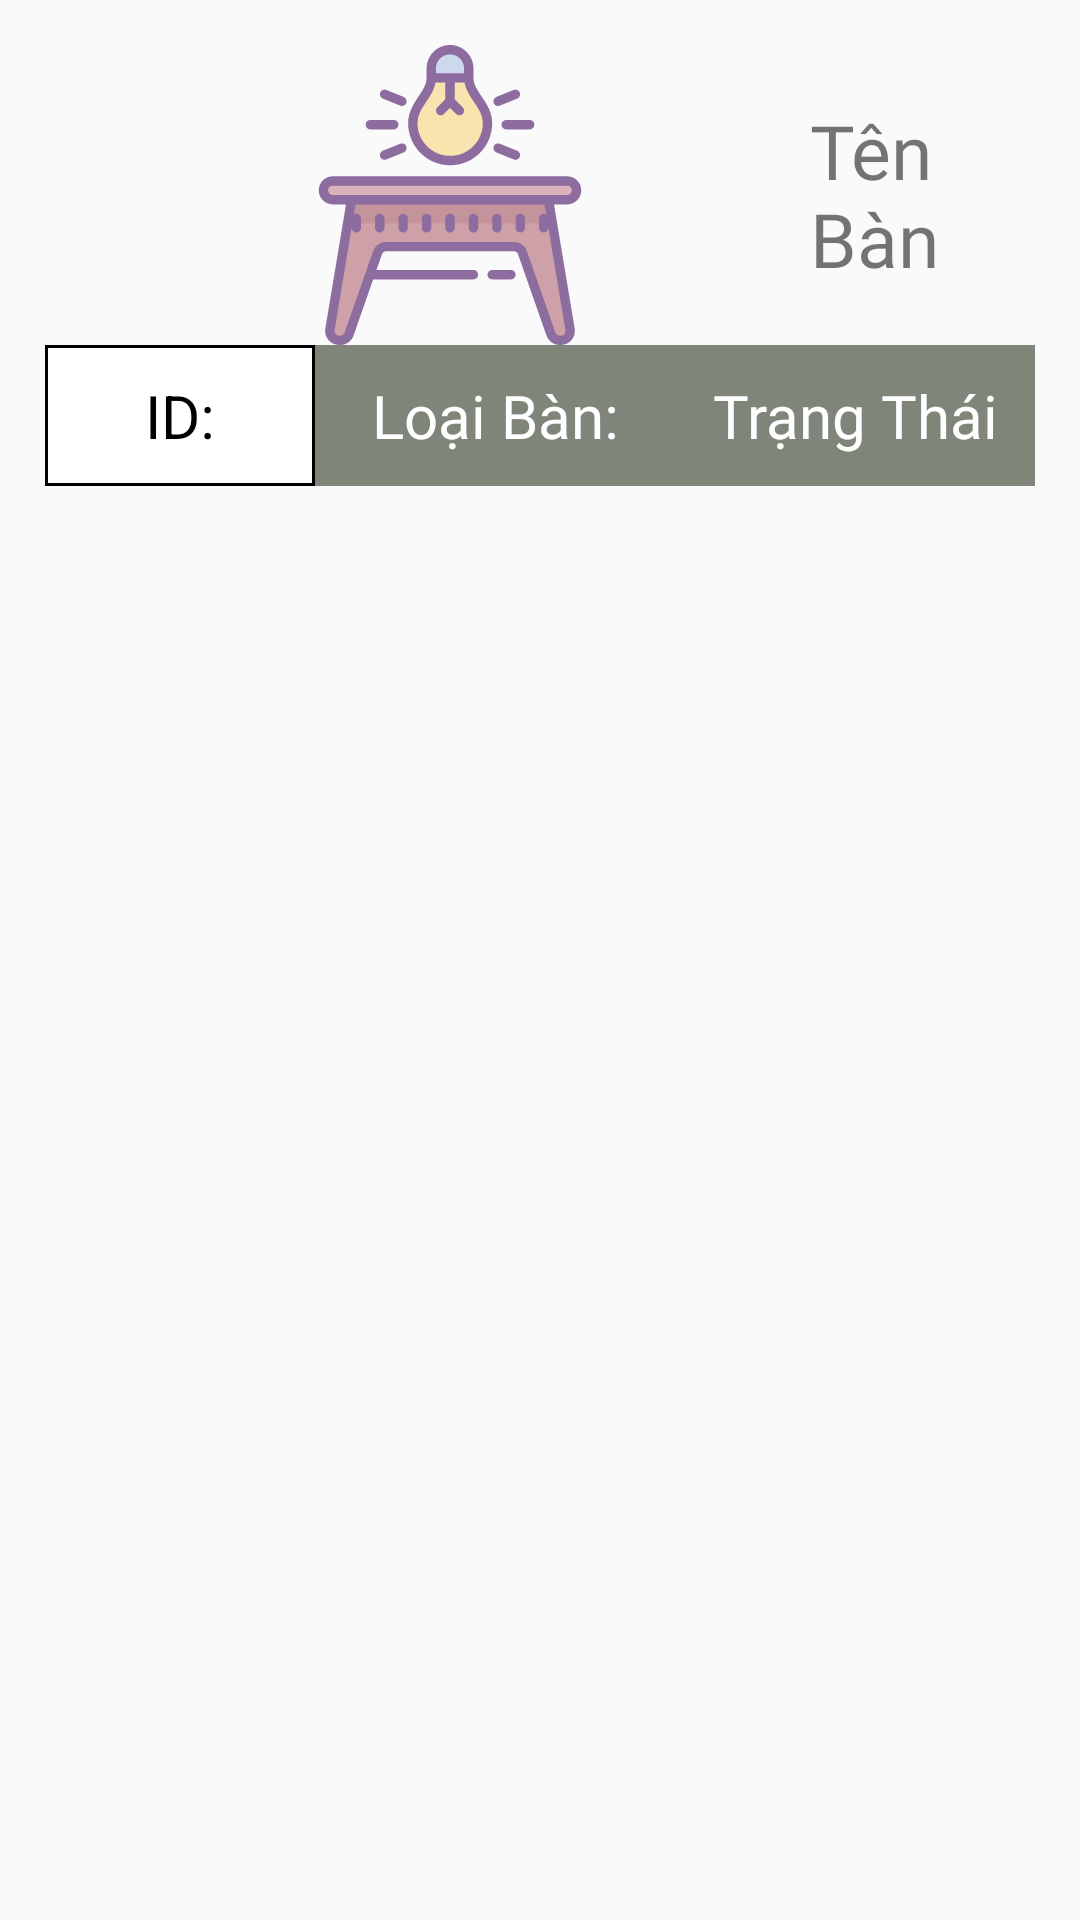

Where to tap for icons on this 1080 x 1920 app screen, as [x,y]:
table: [450,195]
